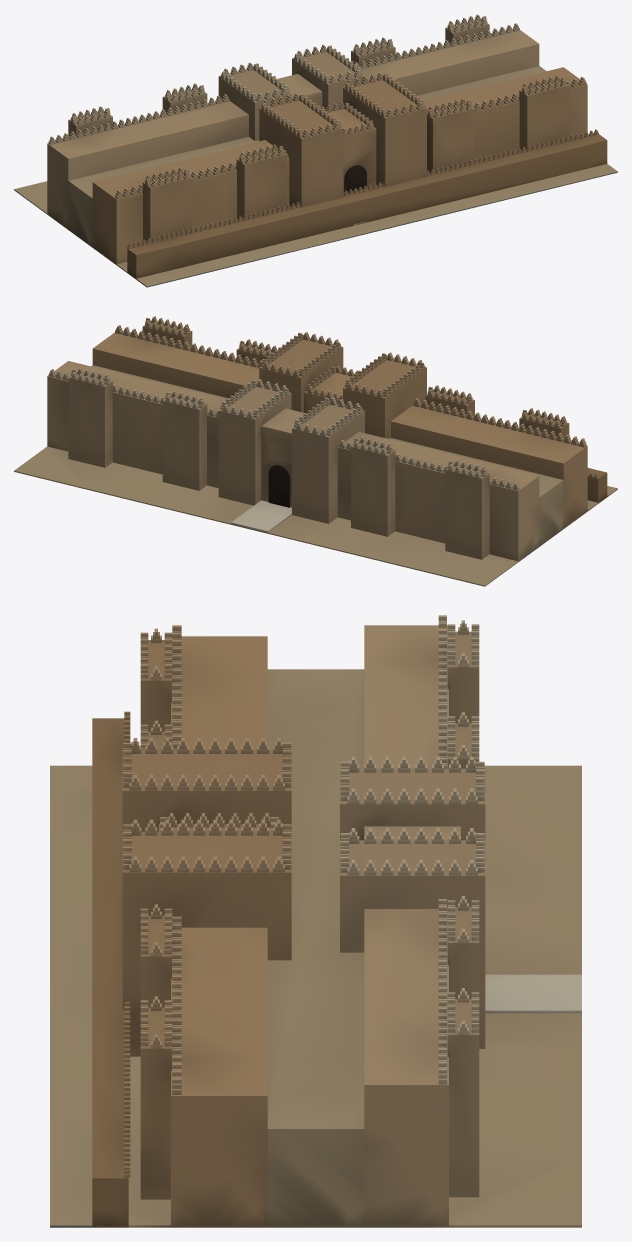
The model's file is outer-gate.glb.
3 views of the same model, one above another, from view 1: azimuth 30°, elevation 25°; view 2: azimuth 150°, elevation 25°; view 3: azimuth 270°, elevation 25° (orthographic). The views are drawn at different scales.
Parts seen in each view (by area): view 1: p1_walls and gate, p0_moat and quay, p2_crenellations; view 2: p1_walls and gate, p0_moat and quay, p2_crenellations; view 3: p1_walls and gate, p0_moat and quay, p2_crenellations.
Part boxes in pixels (x1,y1,x2,y2): p1_walls and gate: (47,19,587,264); p0_moat and quay: (14,134,617,287); p2_crenellations: (48,14,598,248); p1_walls and gate: (47,323,587,561); p0_moat and quay: (14,446,617,586); p2_crenellations: (48,316,598,490); p1_walls and gate: (122,625,581,1227); p0_moat and quay: (50,718,581,1227); p2_crenellations: (123,615,484,1177).
Size of the model in its own units: 90 by 18.14 by 44.
